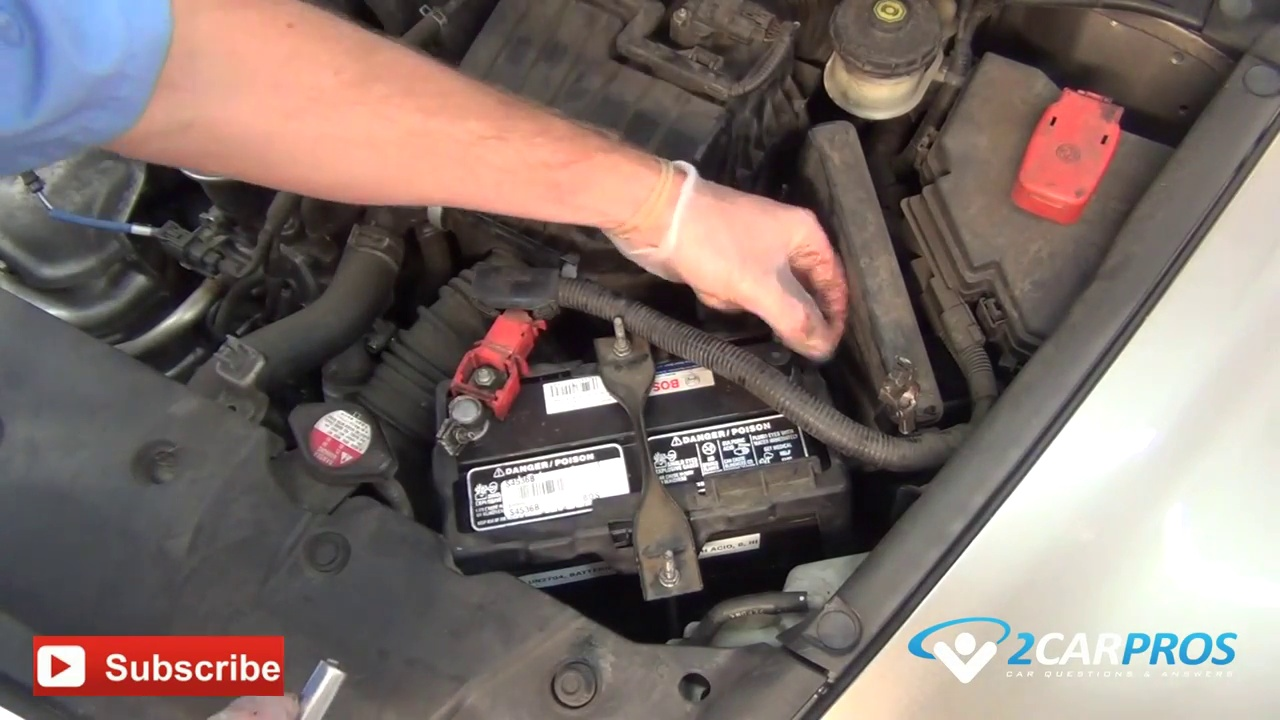neg_touched: (436, 317, 852, 561), (730, 265, 854, 393)
pos_connected: (432, 309, 528, 472)
